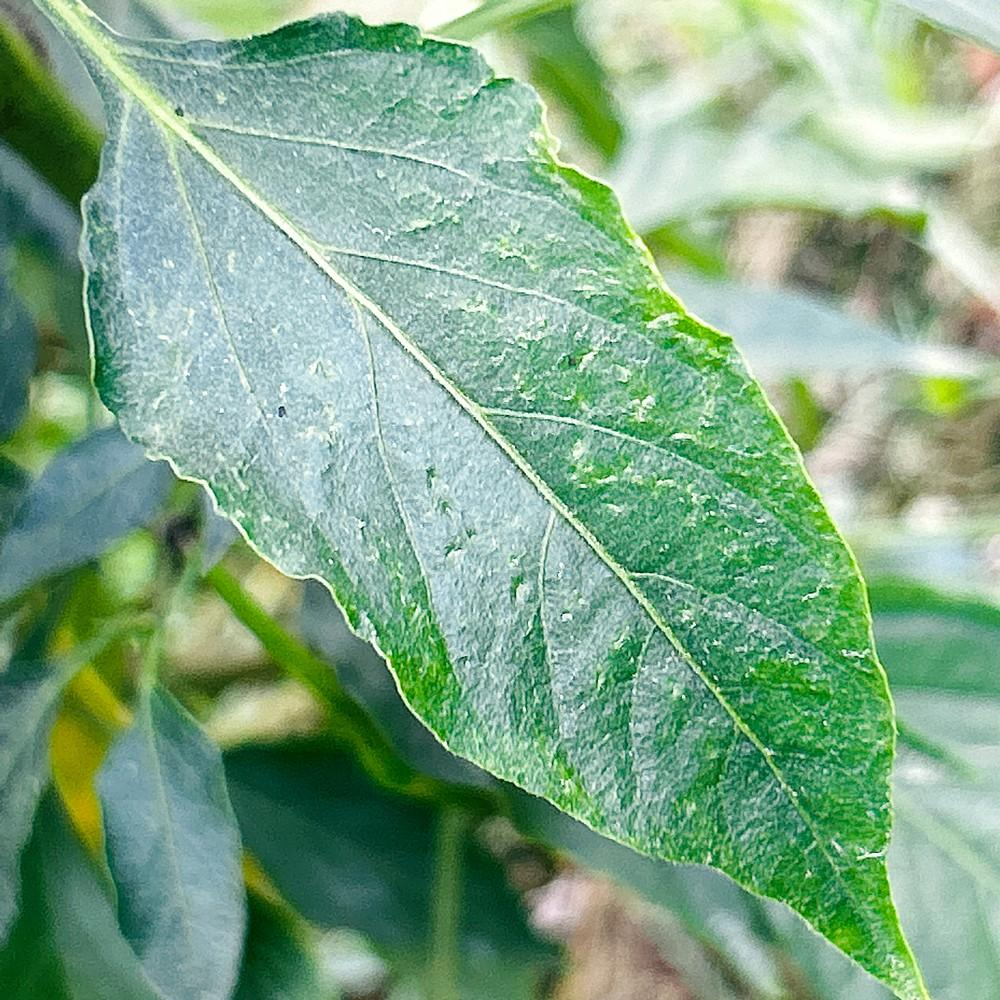Daun Cabai Sehat: (31, 1, 931, 997), (92, 689, 251, 1000)
